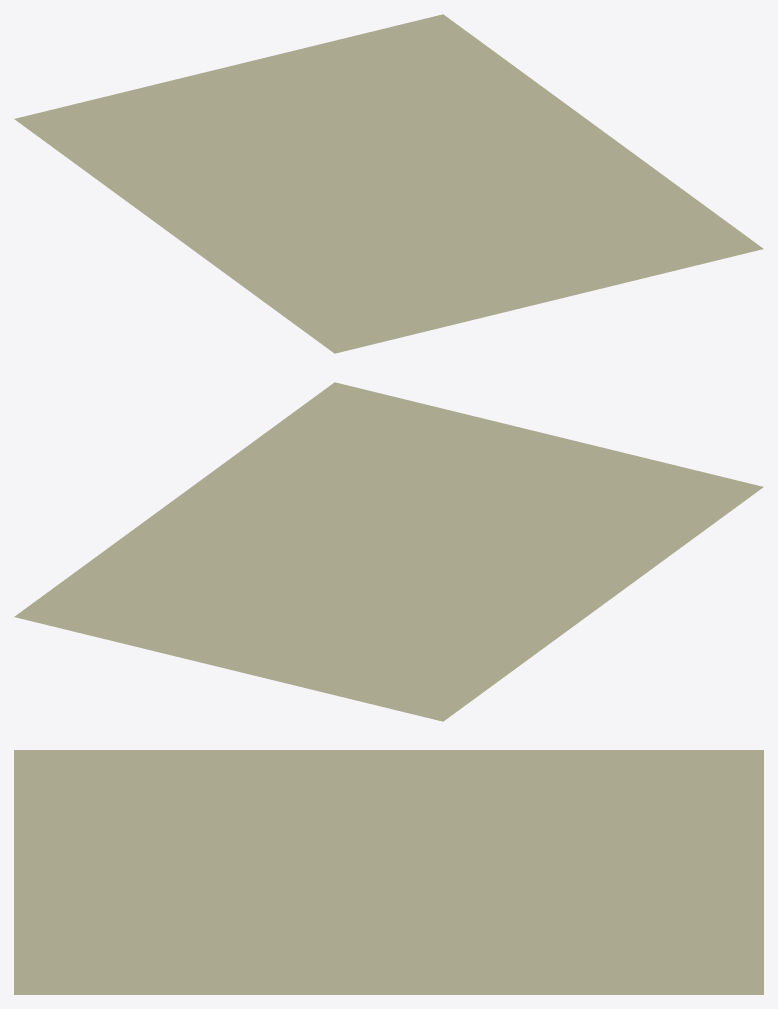
Rendered from SM_Paper.FBX.
3 renders of one model, top to bottom at view 1: azimuth 30°, elevation 25°; view 2: azimuth 150°, elevation 25°; view 3: azimuth 270°, elevation 25°, orthographic. The views are drawn at different scales.
Visible parts, largest first — view 1: SM_PaperUncrumbled; view 2: SM_PaperUncrumbled; view 3: SM_PaperUncrumbled.
Part boxes in pixels (x1,y1,x2,y2): SM_PaperUncrumbled: [14, 14, 763, 353]; SM_PaperUncrumbled: [14, 382, 763, 721]; SM_PaperUncrumbled: [14, 750, 763, 994].
Size of the model in its own units: 170 by 1.35e-14 by 220.
